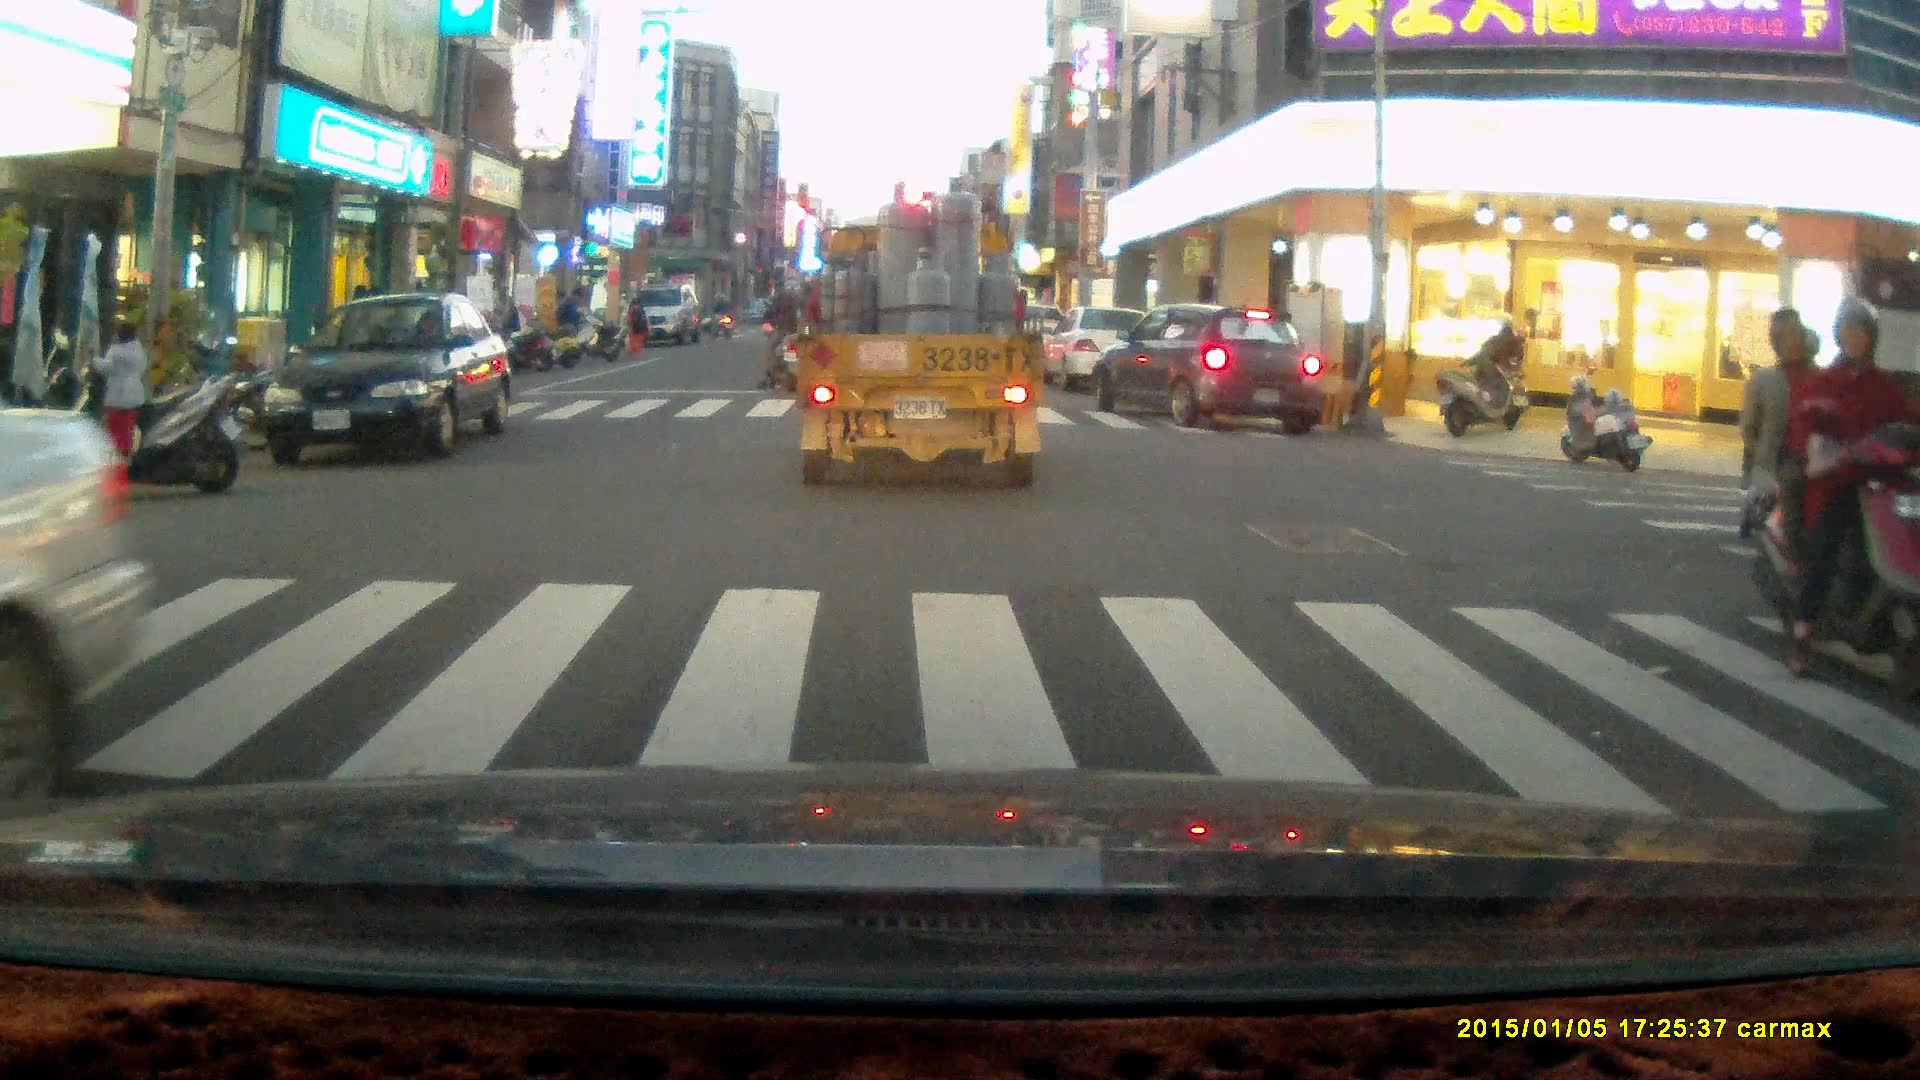pedestrian: (87, 319, 149, 467), (555, 285, 584, 353), (624, 296, 647, 356)
rider: (1744, 293, 1920, 696), (753, 264, 812, 392), (1474, 310, 1531, 430)
vehicle: (790, 174, 1050, 489), (1, 366, 149, 777), (266, 293, 512, 463), (1089, 306, 1320, 431), (1040, 307, 1171, 398), (621, 280, 698, 341)
